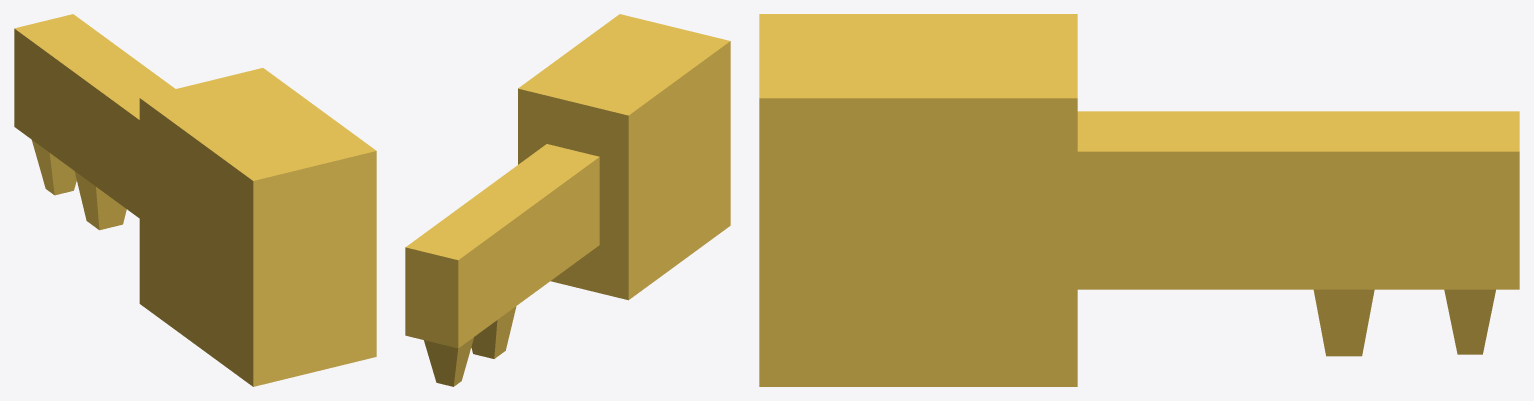
The model's file is Key.fbx.
3 views of the same model, side by side, from view 1: azimuth 30°, elevation 25°; view 2: azimuth 150°, elevation 25°; view 3: azimuth 270°, elevation 25° (orthographic). The views are drawn at different scales.
Parts seen in each view (by area): view 1: Key; view 2: Key; view 3: Key.
Boxes of the visible parts, <box> form: Key: <box>14,14,376,386</box>; Key: <box>405,14,730,386</box>; Key: <box>759,14,1519,386</box>.
Size of the model in its own units: 314 by 508 by 1194.
